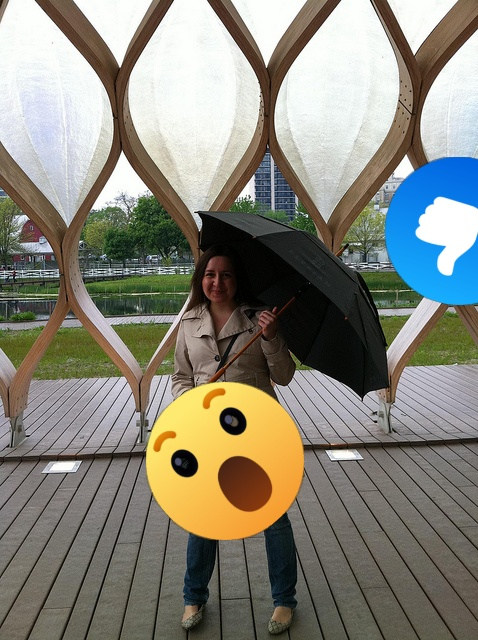like: (385, 157, 478, 305)
wow: (146, 382, 304, 540)
